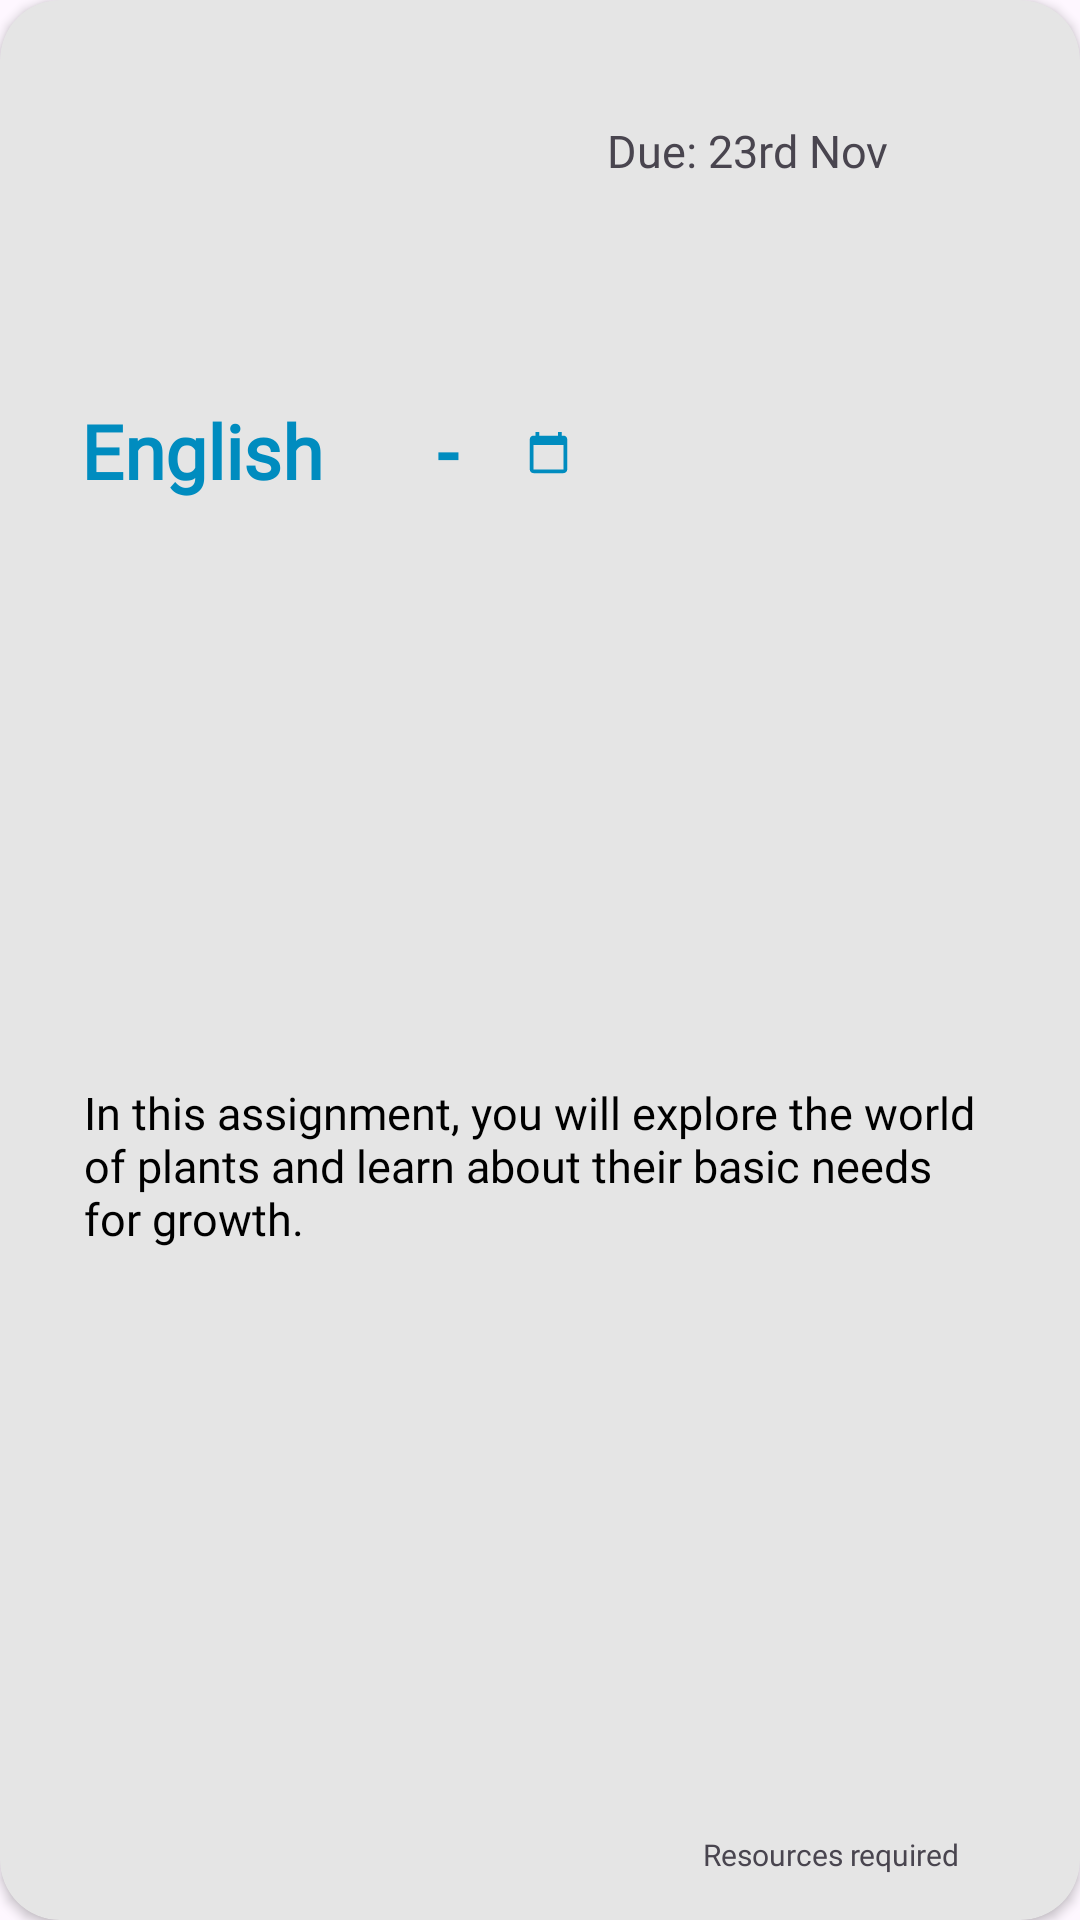

Where icons sit on this 1080 × 1920 app screen, as (x1, y1, x2, y2):
calendar: (529, 432, 568, 474)
